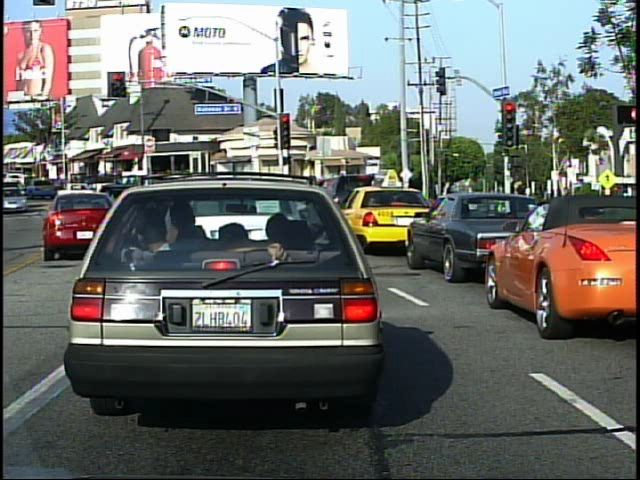car: (65, 173, 403, 439), (485, 195, 640, 344), (406, 190, 494, 291), (341, 175, 416, 257), (41, 189, 116, 260)
